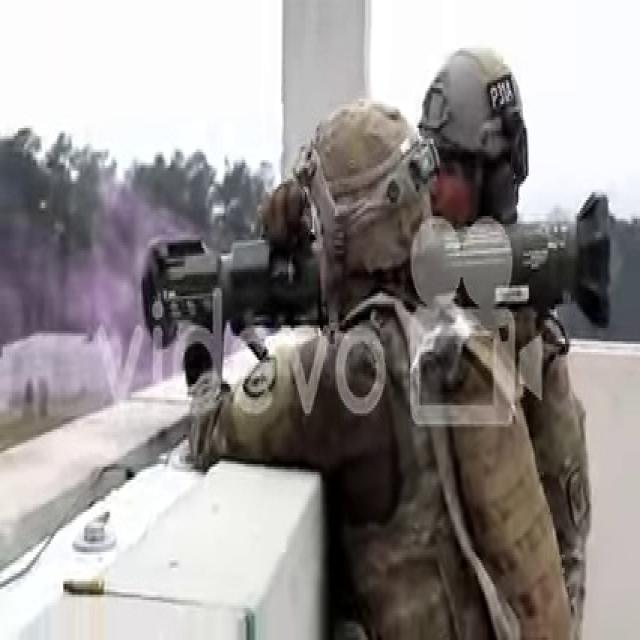bazooka: (124, 188, 621, 339)
